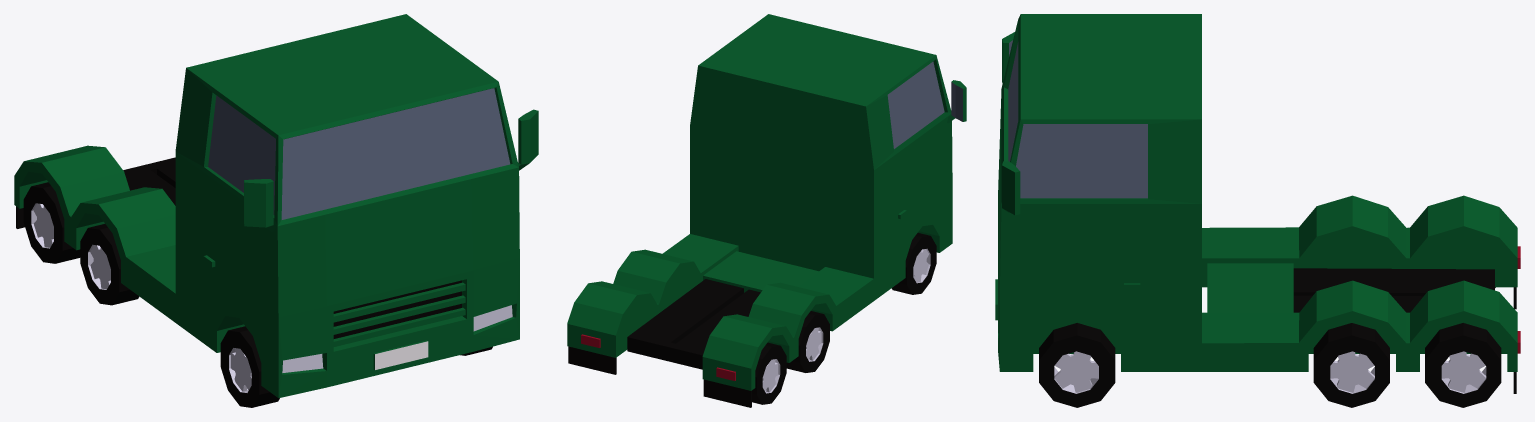
File: truck.glb
3 renders of one model, left to right at view 1: azimuth 30°, elevation 25°; view 2: azimuth 150°, elevation 25°; view 3: azimuth 270°, elevation 25°, orthographic. The views are drawn at different scales.
Visible parts, largest first — view 1: Truck, Truck_wheel_front_right, Truck_wheel_rear_right_2, Truck_wheel_rear_right; view 2: Truck, Truck_wheel_rear_right, Truck_wheel_front_right, Truck_wheel_rear_right_2; view 3: Truck, Truck_wheel_front_left, Truck_wheel_rear_left_2, Truck_wheel_rear_left.
Boxes of the visible parts, <box> form: Truck: <box>14,14,538,398</box>; Truck_wheel_front_right: <box>220,326,279,407</box>; Truck_wheel_rear_right_2: <box>23,182,80,263</box>; Truck_wheel_rear_right: <box>80,224,139,305</box>; Truck: <box>567,14,966,407</box>; Truck_wheel_rear_right: <box>786,311,829,372</box>; Truck_wheel_front_right: <box>891,233,936,294</box>; Truck_wheel_rear_right_2: <box>752,342,786,404</box>; Truck: <box>995,14,1520,393</box>; Truck_wheel_front_left: <box>1039,323,1115,407</box>; Truck_wheel_rear_left_2: <box>1425,323,1501,407</box>; Truck_wheel_rear_left: <box>1313,323,1389,407</box>.
Bounding box in the file's own units: 3.41 × 3.21 × 5.38.
